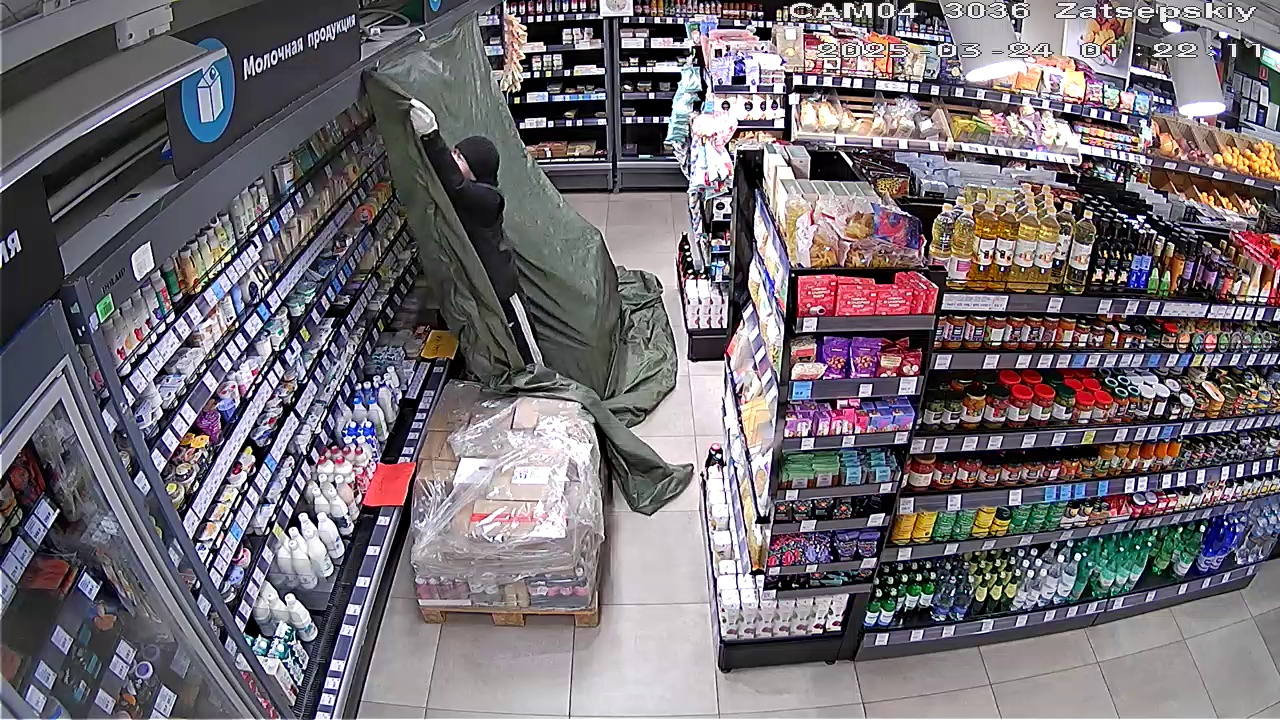Human: (404, 93, 548, 386)
dome: (355, 47, 692, 506)
pallet: (412, 400, 606, 626)
